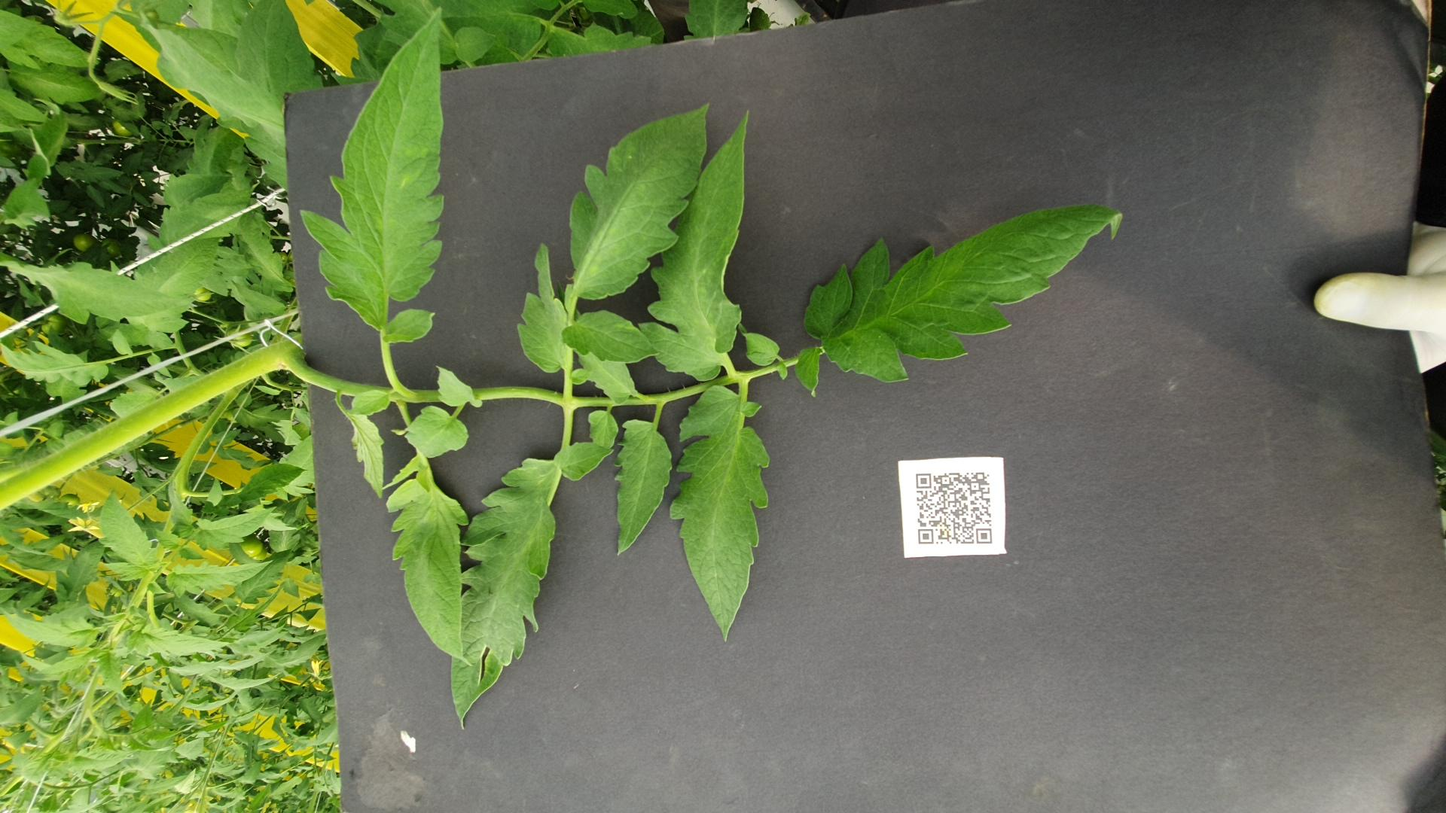Healthy: (762, 452, 1086, 635), (833, 168, 1434, 251), (765, 359, 1252, 422), (911, 319, 1266, 401), (147, 253, 632, 313), (305, 376, 761, 434), (256, 214, 651, 265), (866, 23, 983, 110), (456, 345, 701, 379), (784, 290, 1016, 320), (1316, 0, 1434, 49), (799, 315, 895, 371), (754, 0, 841, 61), (437, 55, 576, 89), (465, 109, 551, 157), (385, 93, 452, 154), (278, 70, 341, 132), (629, 226, 725, 264), (290, 0, 350, 58), (556, 194, 710, 216), (729, 321, 823, 357), (552, 134, 623, 173), (590, 311, 662, 345), (720, 245, 797, 271)
